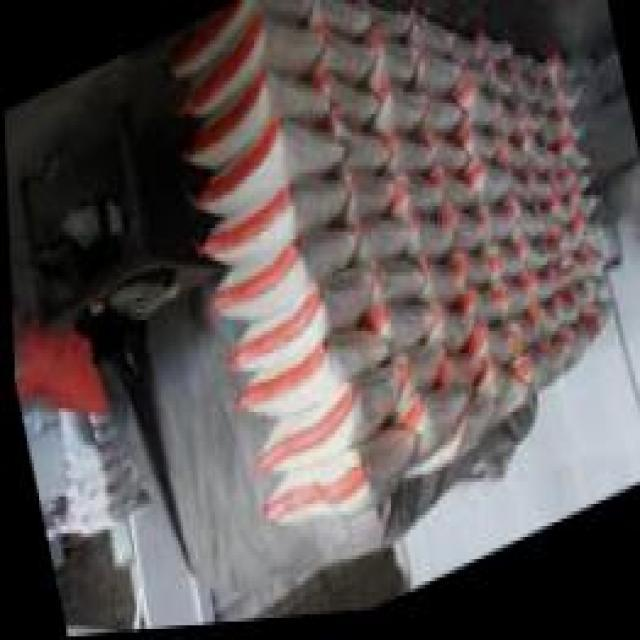gunny_bag: (179, 69, 327, 181), (214, 276, 368, 383), (181, 13, 317, 134), (190, 123, 341, 229), (225, 332, 376, 435), (193, 189, 345, 282), (207, 239, 354, 331), (258, 387, 399, 481), (259, 458, 407, 535), (392, 392, 462, 469), (363, 257, 417, 327), (315, 26, 374, 90), (507, 355, 569, 410), (314, 80, 374, 132), (420, 304, 468, 363), (342, 179, 391, 235), (382, 133, 432, 187), (373, 94, 428, 140), (310, 0, 366, 44), (380, 309, 429, 357), (464, 330, 514, 377), (411, 54, 462, 100), (369, 40, 412, 93), (462, 164, 508, 210), (404, 223, 452, 266), (458, 89, 500, 138), (489, 284, 531, 326), (513, 237, 550, 284), (474, 212, 514, 255), (419, 143, 466, 179), (520, 141, 553, 189), (448, 261, 492, 296), (391, 187, 435, 220), (423, 102, 457, 142), (504, 213, 541, 249), (510, 76, 545, 114)
